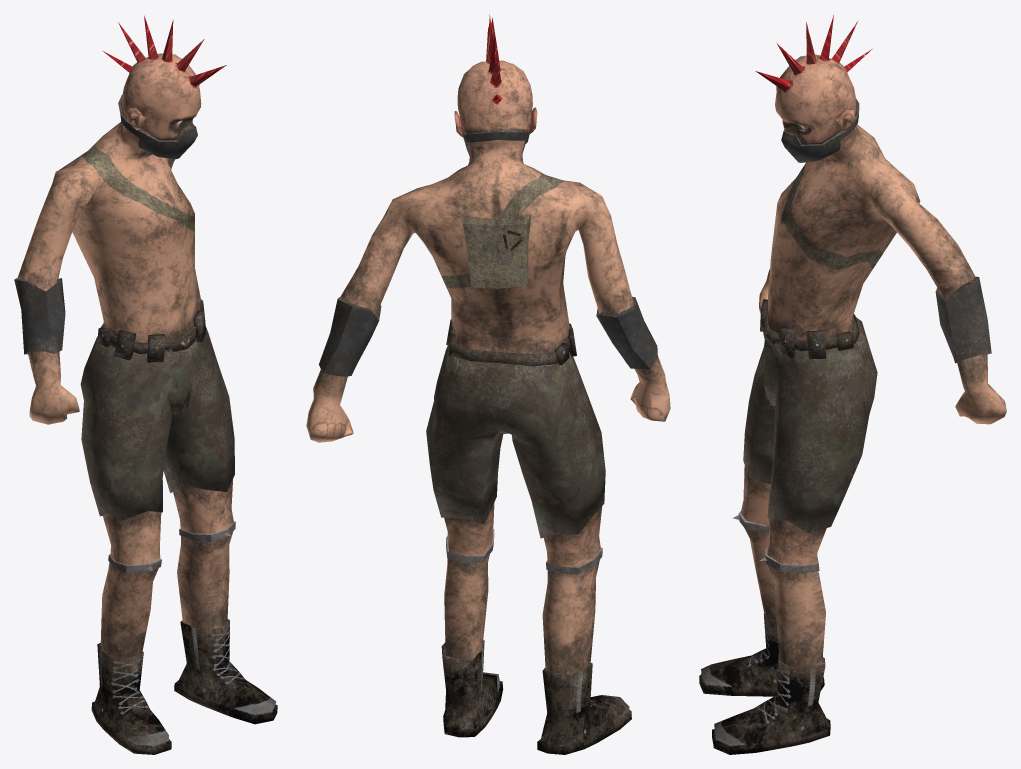
Rendered from Anim_recibirdanyo_1_npc2.0030.obj.
The picture shows the model from 3 angles, left to right: view 1: azimuth 30°, elevation 25°; view 2: azimuth 150°, elevation 25°; view 3: azimuth 270°, elevation 25°; orthographic projection. The views are drawn at different scales.
Visible parts, largest first — view 1: polySurface1; view 2: polySurface1; view 3: polySurface1.
Boxes of the visible parts, x1=… form: polySurface1: x1=14, y1=15, x2=277, y2=754; polySurface1: x1=306, y1=14, x2=670, y2=754; polySurface1: x1=699, y1=15, x2=1006, y2=754.
Size of the model in its own units: 3.66 by 9.98 by 3.97.
